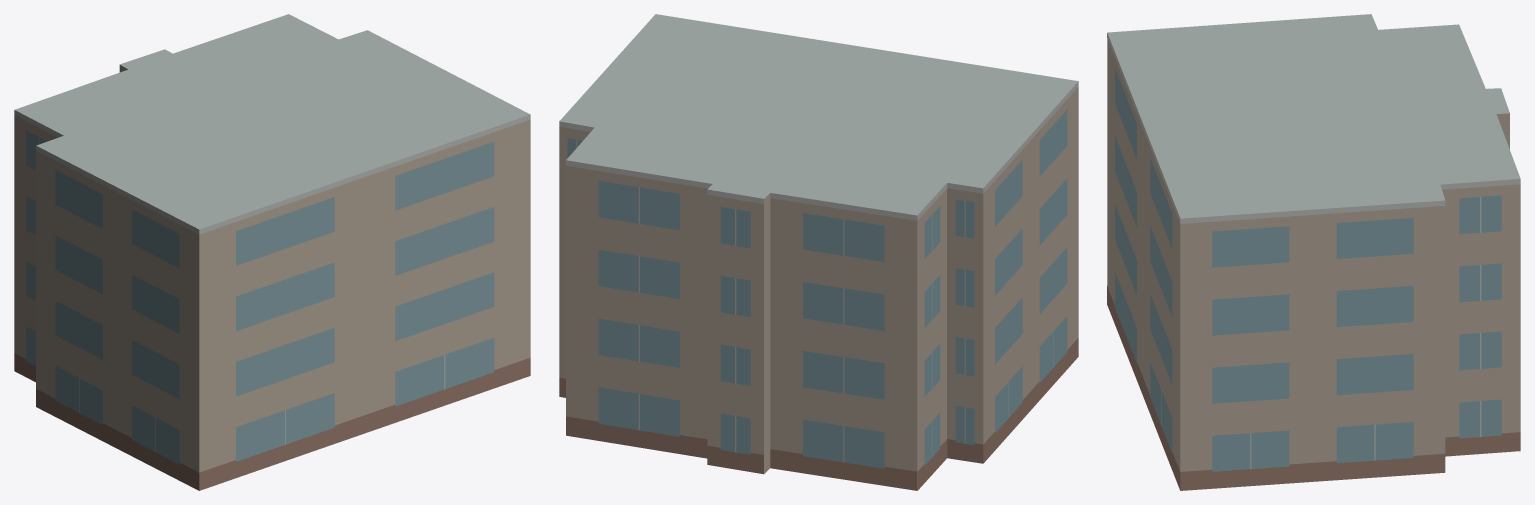
File: survey-upis-32524681.glb
3 renders of one model, left to right at view 1: azimuth 30°, elevation 25°; view 2: azimuth 150°, elevation 25°; view 3: azimuth 270°, elevation 25°, orthographic. The views are drawn at different scales.
Visible parts, largest first — view 1: survey-upis-32524681.tmp; view 2: survey-upis-32524681.tmp; view 3: survey-upis-32524681.tmp.
Part boxes in pixels (box(x1,y1,x2,y2)): survey-upis-32524681.tmp: box(14, 14, 530, 490); survey-upis-32524681.tmp: box(559, 14, 1078, 490); survey-upis-32524681.tmp: box(1107, 14, 1520, 490).
Bounding box in the file's own units: 20.23 × 12.54 × 17.28.
